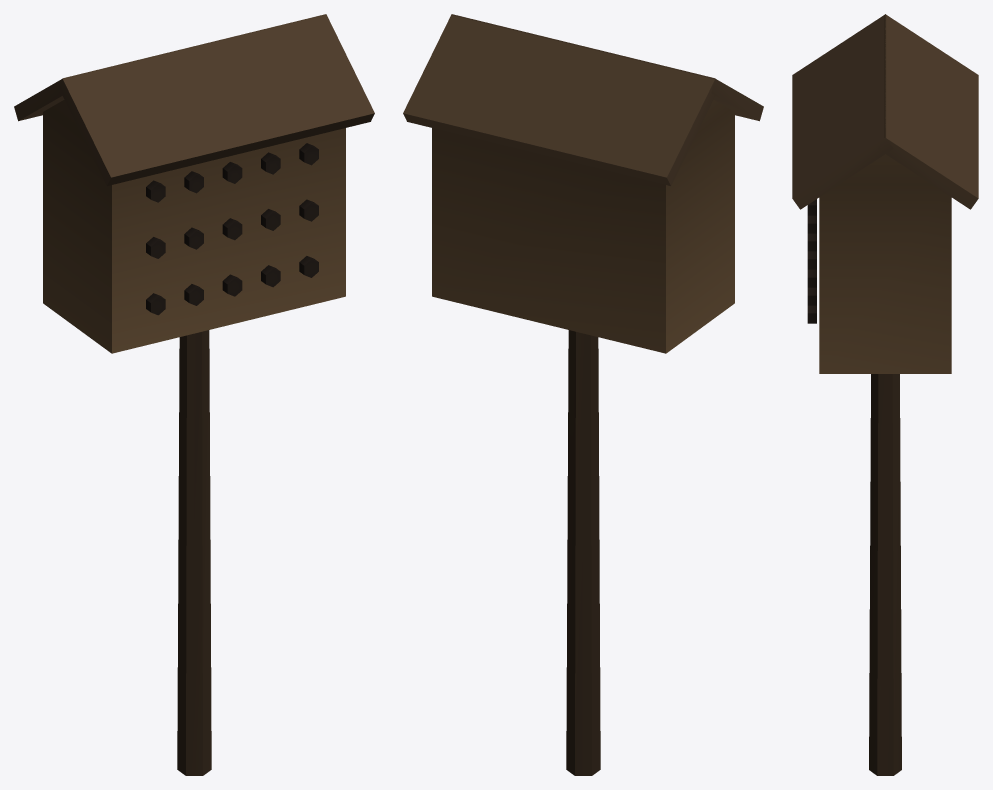
Rendered from struct_bee_hotel.glb.
The picture shows the model from 3 angles, left to right: view 1: azimuth 30°, elevation 25°; view 2: azimuth 150°, elevation 25°; view 3: azimuth 270°, elevation 25°; orthographic projection. The views are drawn at different scales.
Visible parts, largest first — view 1: house, roof, pole, holes; view 2: house, roof, pole; view 3: house, roof, pole, holes.
Part boxes in pixels (bbox=[...]): house: bbox=[43, 100, 345, 353]; roof: bbox=[14, 14, 374, 185]; pole: bbox=[177, 330, 211, 775]; holes: bbox=[146, 143, 318, 315]; house: bbox=[432, 100, 734, 353]; roof: bbox=[403, 14, 763, 185]; pole: bbox=[566, 330, 600, 775]; house: bbox=[819, 154, 951, 373]; roof: bbox=[792, 14, 978, 209]; pole: bbox=[869, 374, 901, 775]; holes: bbox=[807, 199, 816, 323].
Size of the model in its own units: 0.588 by 1.54 by 0.3746.
